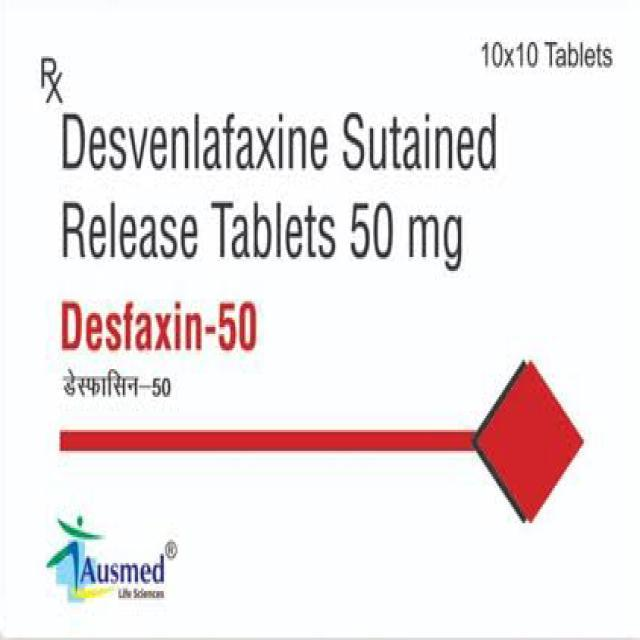drug-name: (56, 296, 260, 353)
